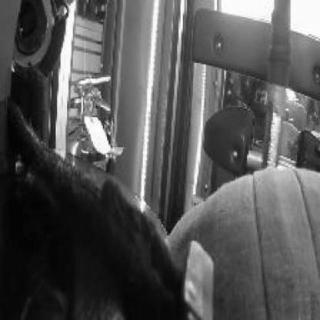other: (80, 99, 124, 157), (266, 83, 294, 113)
